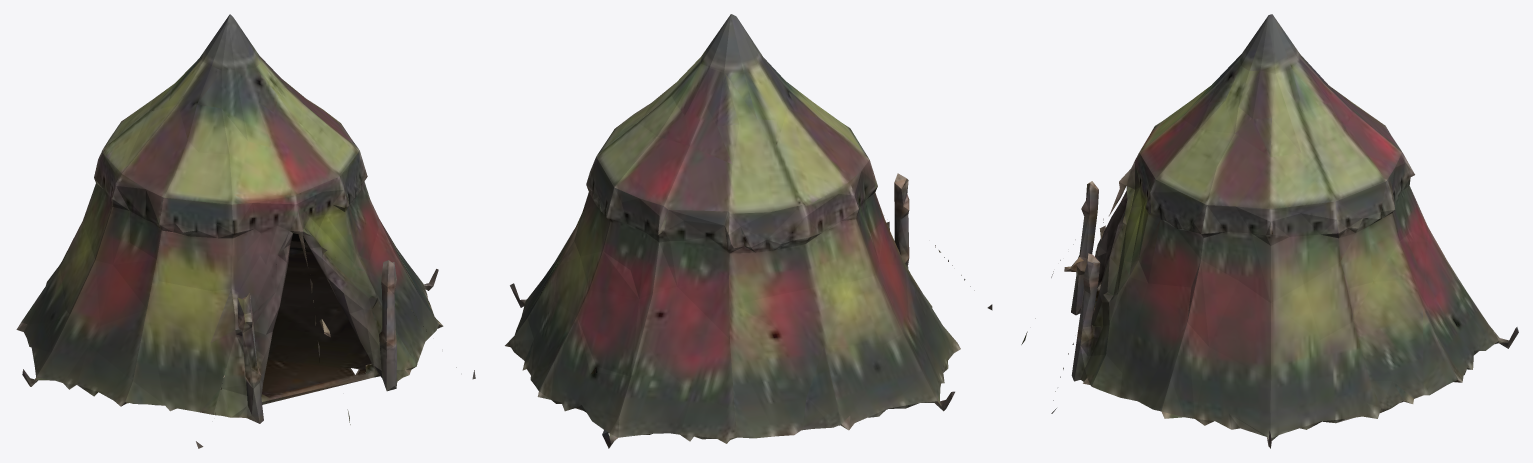
Rendered from tent_conical_striped_lod0.glb.
3 renders of one model, left to right at view 1: azimuth 30°, elevation 25°; view 2: azimuth 150°, elevation 25°; view 3: azimuth 270°, elevation 25°, orthographic. The views are drawn at different scales.
Parts seen in each view (by area): view 1: tent_conical_striped_lod0; view 2: tent_conical_striped_lod0; view 3: tent_conical_striped_lod0.
Boxes of the visible parts, bbox=[...] form: tent_conical_striped_lod0: bbox=[16, 14, 475, 448]; tent_conical_striped_lod0: bbox=[505, 14, 992, 448]; tent_conical_striped_lod0: bbox=[1021, 14, 1518, 448].
Size of the model in its own units: 5.37 by 4 by 5.38.
Materials: 1 (1 with a texture image).
